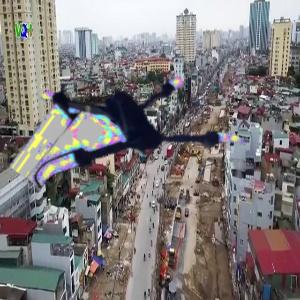drone: (37, 33, 240, 236)
